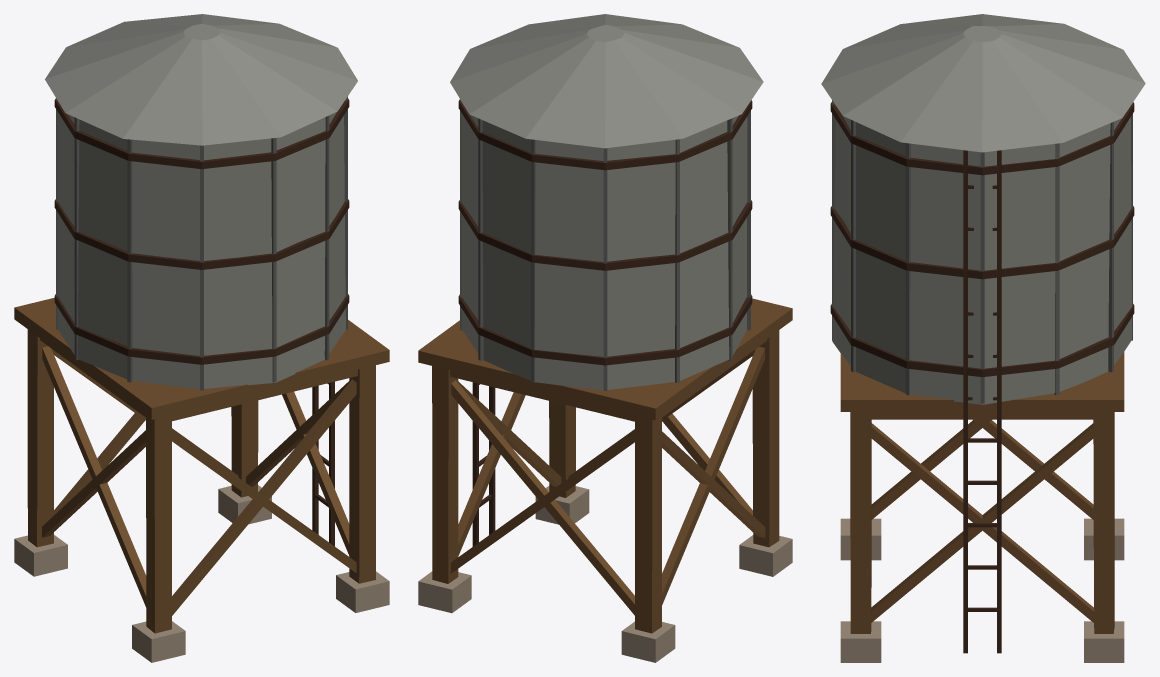
Rendered from stilt_tank.glb.
3 renders of one model, left to right at view 1: azimuth 30°, elevation 25°; view 2: azimuth 150°, elevation 25°; view 3: azimuth 270°, elevation 25°, orthographic. The views are drawn at different scales.
Visible parts, largest first — view 1: stilt_tank; view 2: stilt_tank; view 3: stilt_tank.
Part boxes in pixels (x1=…): stilt_tank: x1=14, y1=14, x2=389, y2=662; stilt_tank: x1=418, y1=14, x2=792, y2=662; stilt_tank: x1=821, y1=14, x2=1145, y2=662.
Bounding box in the file's own units: 4.81 × 9.32 × 4.81.
